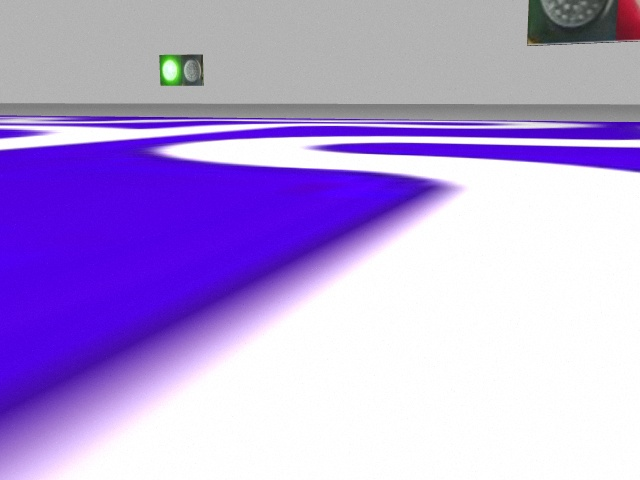red: (618, 2, 640, 38)
